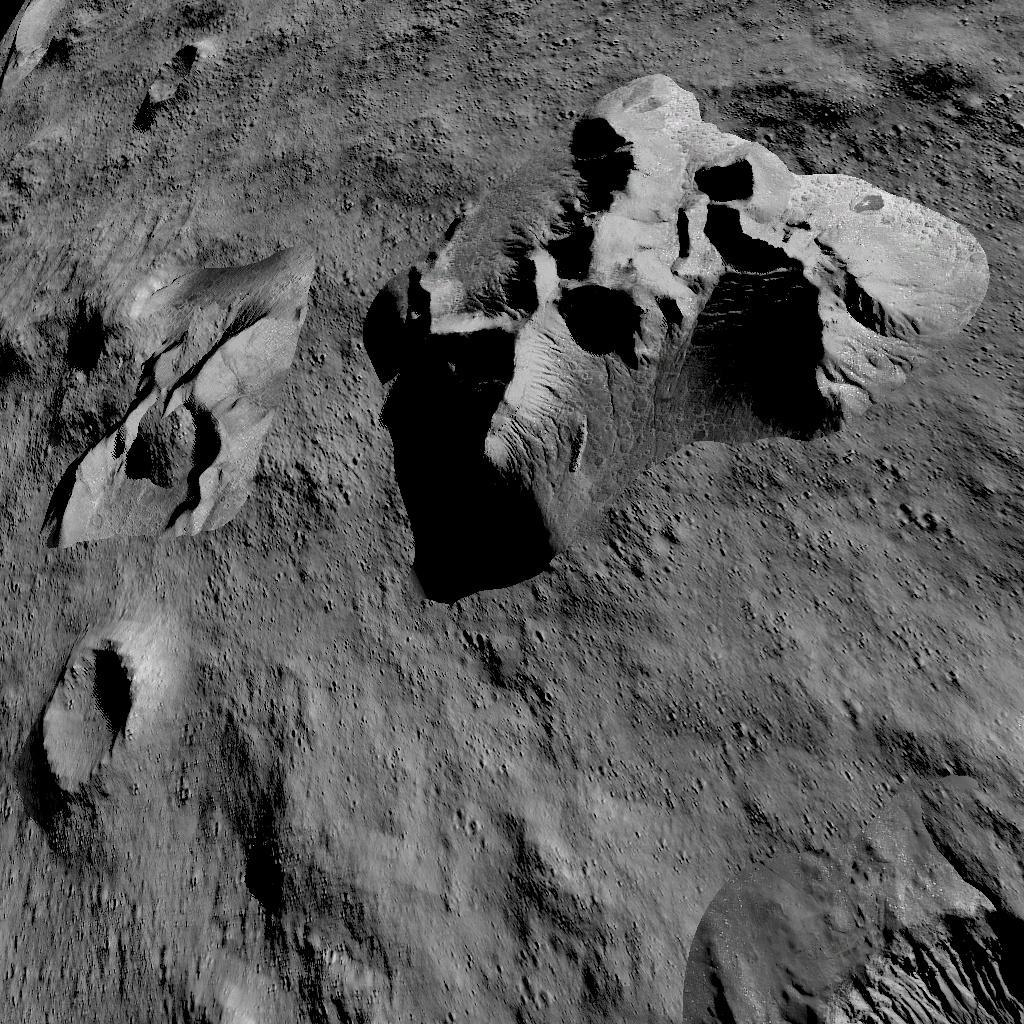Boulders: (341, 48, 993, 600)
Crater: (2, 289, 280, 551), (755, 876, 1024, 1024), (18, 620, 170, 840), (0, 0, 113, 104), (133, 40, 214, 120)
Plan surface: (211, 633, 721, 1024), (748, 618, 1019, 830), (4, 128, 324, 267)
